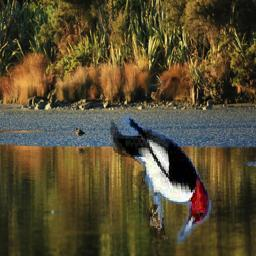Woodpecker: (108, 110, 220, 245)
